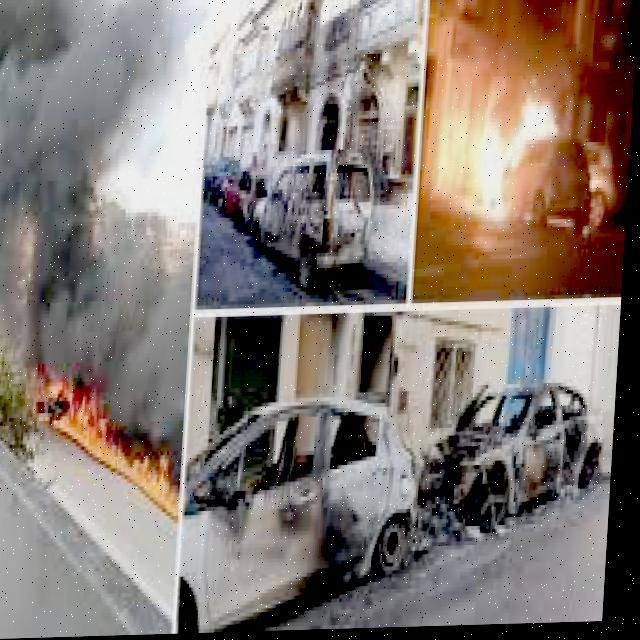Fire: (29, 350, 188, 524), (474, 84, 620, 240)
